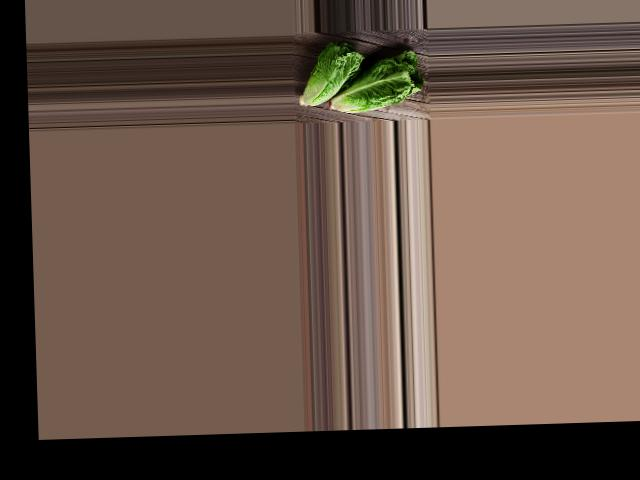lettuce: (292, 35, 367, 109)
